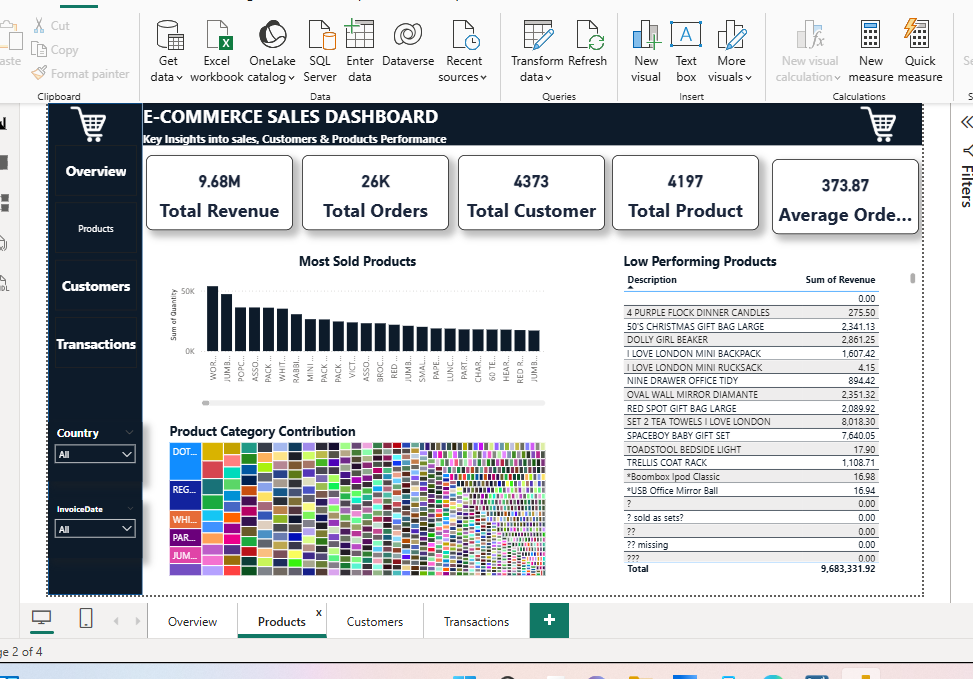

The dashboard page shown, as its layout file describes it:
{"tool":"powerbi","page":{"name":"Products","canvas":[1280,720],"ordinal":1},"visuals":[{"type":"shape","box":[0,0,138.3,720],"z":0},{"type":"shape","title":"E-COMMERCE SALES DASHBOARD","box":[138.3,0,1141.7,61.7],"z":1000},{"type":"card","fields":{"Values":["E-commerce .Total Revenue"]},"box":[143.3,76.7,215,110],"z":2000},{"type":"card","fields":{"Values":["E-commerce .Total Orders"]},"box":[371.7,76.7,215,110],"z":3000},{"type":"card","fields":{"Values":["E-commerce .Total Customer"]},"box":[600,76.7,215,110],"z":4000},{"type":"card","fields":{"Values":["E-commerce .Total Product"]},"box":[825,76.7,215,110],"z":5000},{"type":"card","fields":{"Values":["E-commerce .Average Order Value"]},"box":[1060,81.7,215,110],"z":6000},{"type":"clusteredColumnChart","title":"Most Sold Products","fields":{"Category":["E-commerce .Description"],"Y":["Sum(E-commerce .Quantity)"]},"box":[173.3,218.3,560,230],"z":7000},{"type":"tableEx","title":"Low Performing Products","fields":{"Values":["E-commerce .Description","Sum(E-commerce .Revenue)"]},"box":[836.7,218.3,438.3,478.3],"z":8000},{"type":"treemap","title":"Product Category Contribution","fields":{"Values":["Sum(E-commerce .Revenue)"],"Group":["E-commerce .Description"]},"box":[173.3,466.7,560,230],"z":10000},{"type":"slicer","fields":{"Values":["E-commerce .Country"]},"box":[0,466.7,138.3,86.7],"z":12000},{"type":"slicer","fields":{"Values":["E-commerce .InvoiceDate"]},"box":[0,581.7,138.3,85],"z":13000},{"type":"pageNavigator","box":[10,61.7,120,326.7],"z":14000},{"type":"image","box":[1183.3,0,61.7,61.7],"z":15000},{"type":"image","box":[28.3,0,61.7,61.7],"z":16000}]}

Visuals, with their boxes on the page's 1280x720 design canvas (x1, y1, x2, y2). These are canvas units, not pixel positions in the 973x679 screenshot, which may show the page scaled, cropped or inside an application window:
shape: <bbox>0, 0, 138, 720</bbox>
"E-COMMERCE SALES DASHBOARD" shape: <bbox>138, 0, 1280, 62</bbox>
card - E-commerce .Total Revenue: <bbox>143, 77, 358, 187</bbox>
card - E-commerce .Total Orders: <bbox>372, 77, 587, 187</bbox>
card - E-commerce .Total Customer: <bbox>600, 77, 815, 187</bbox>
card - E-commerce .Total Product: <bbox>825, 77, 1040, 187</bbox>
card - E-commerce .Average Order Value: <bbox>1060, 82, 1275, 192</bbox>
"Most Sold Products" clusteredColumnChart: <bbox>173, 218, 733, 448</bbox>
"Low Performing Products" tableEx: <bbox>837, 218, 1275, 697</bbox>
"Product Category Contribution" treemap: <bbox>173, 467, 733, 697</bbox>
slicer - E-commerce .Country: <bbox>0, 467, 138, 553</bbox>
slicer - E-commerce .InvoiceDate: <bbox>0, 582, 138, 667</bbox>
pageNavigator: <bbox>10, 62, 130, 388</bbox>
image: <bbox>1183, 0, 1245, 62</bbox>
image: <bbox>28, 0, 90, 62</bbox>
